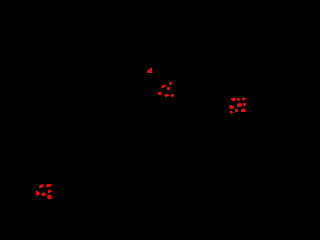Target: (147, 68, 152, 73), (237, 103, 242, 107), (229, 105, 233, 109), (241, 108, 245, 112), (39, 184, 43, 188), (41, 192, 45, 196), (47, 195, 51, 199), (164, 94, 169, 97), (46, 184, 51, 187), (36, 191, 39, 196), (161, 85, 165, 88), (242, 97, 245, 101), (231, 98, 235, 101), (169, 82, 172, 85), (167, 87, 170, 90), (158, 92, 161, 95), (171, 94, 174, 97), (237, 98, 240, 101), (243, 103, 246, 106), (235, 109, 238, 112), (230, 111, 233, 114), (48, 190, 51, 193)
